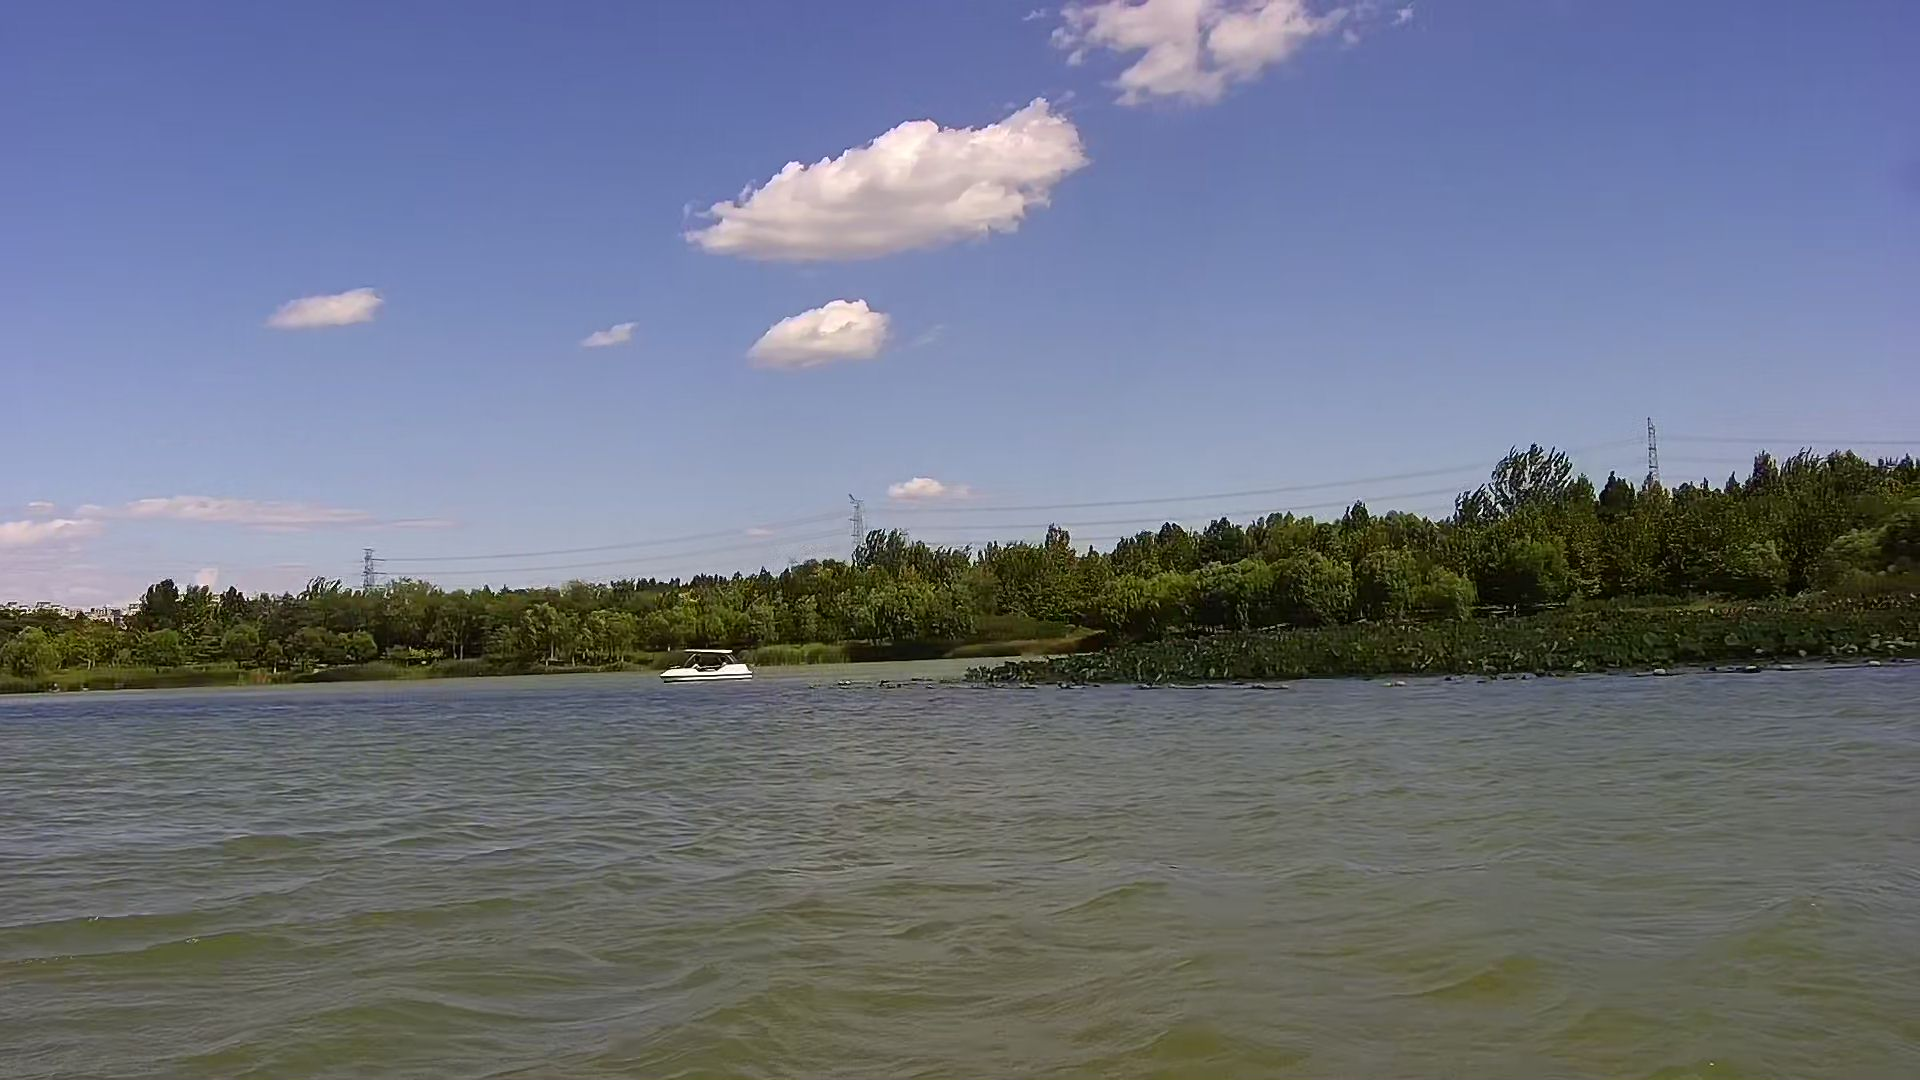boat: (654, 641, 760, 688)
